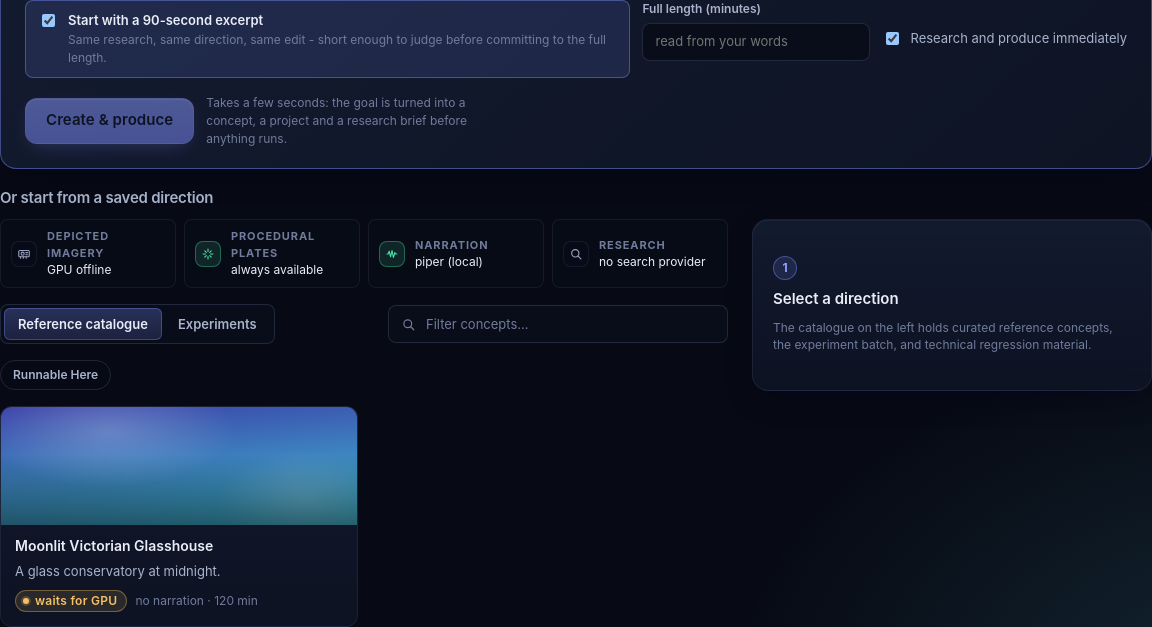
Test: NewProjectPage › lists concepts with their host readiness and explains what blocks one
The width and height of the screenshot is (1152, 627).
(page scrolled)
Click the tab "Experiments": (217, 324) [164,308,271,340]
(page scrolled)
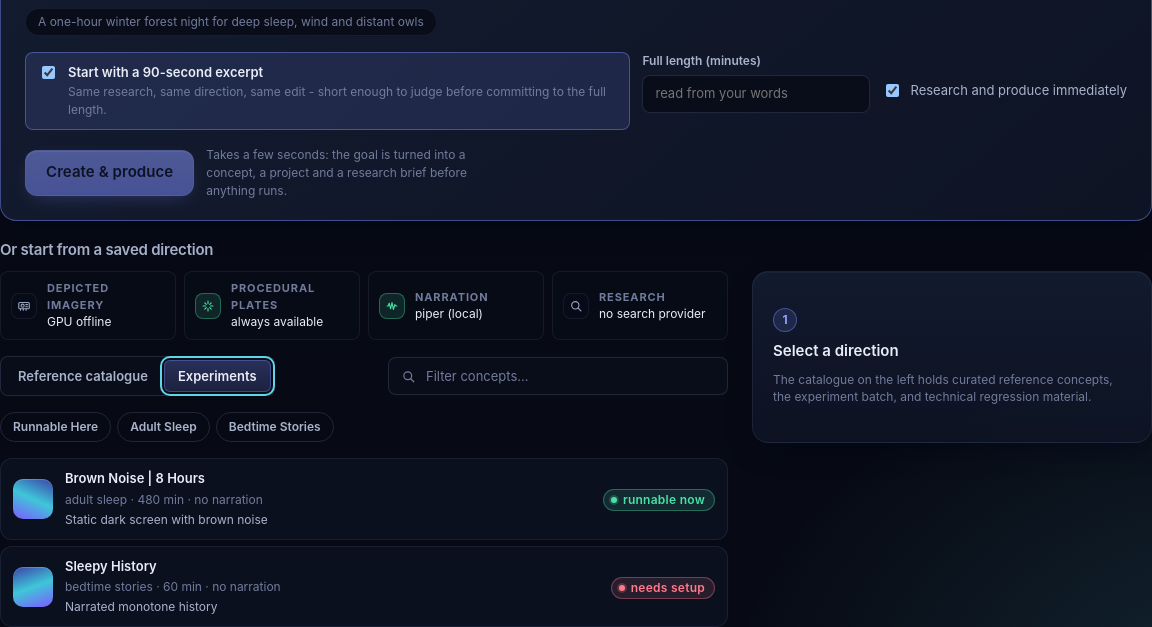
expect the text "Brown Noise | 8 Hours" is shown: met, box [65,470,205,486]
expect the text "runnable now" is shown: met, box [603,489,715,511]
expect the text "needs setup" is shown: met, box [611,577,715,599]
Click the button "Sleepy History": (33, 587) [0,546,728,626]
(page scrolled)
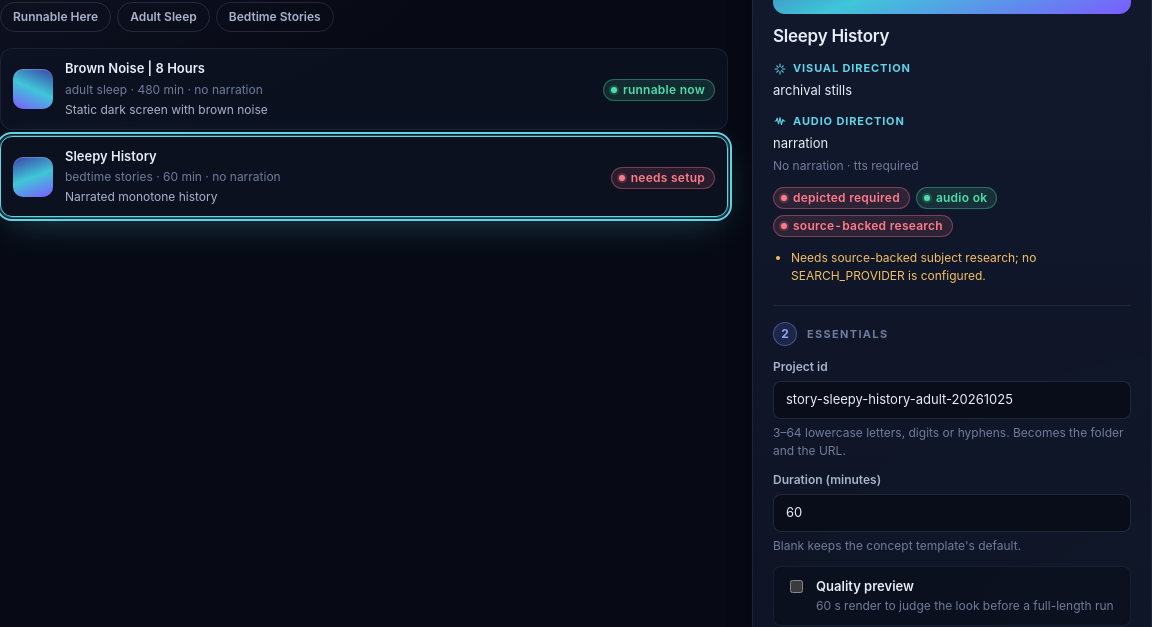
expect the list item "no SEARCH_PROVIDER is configured" is shown: met, box [791,250,1036,283]
